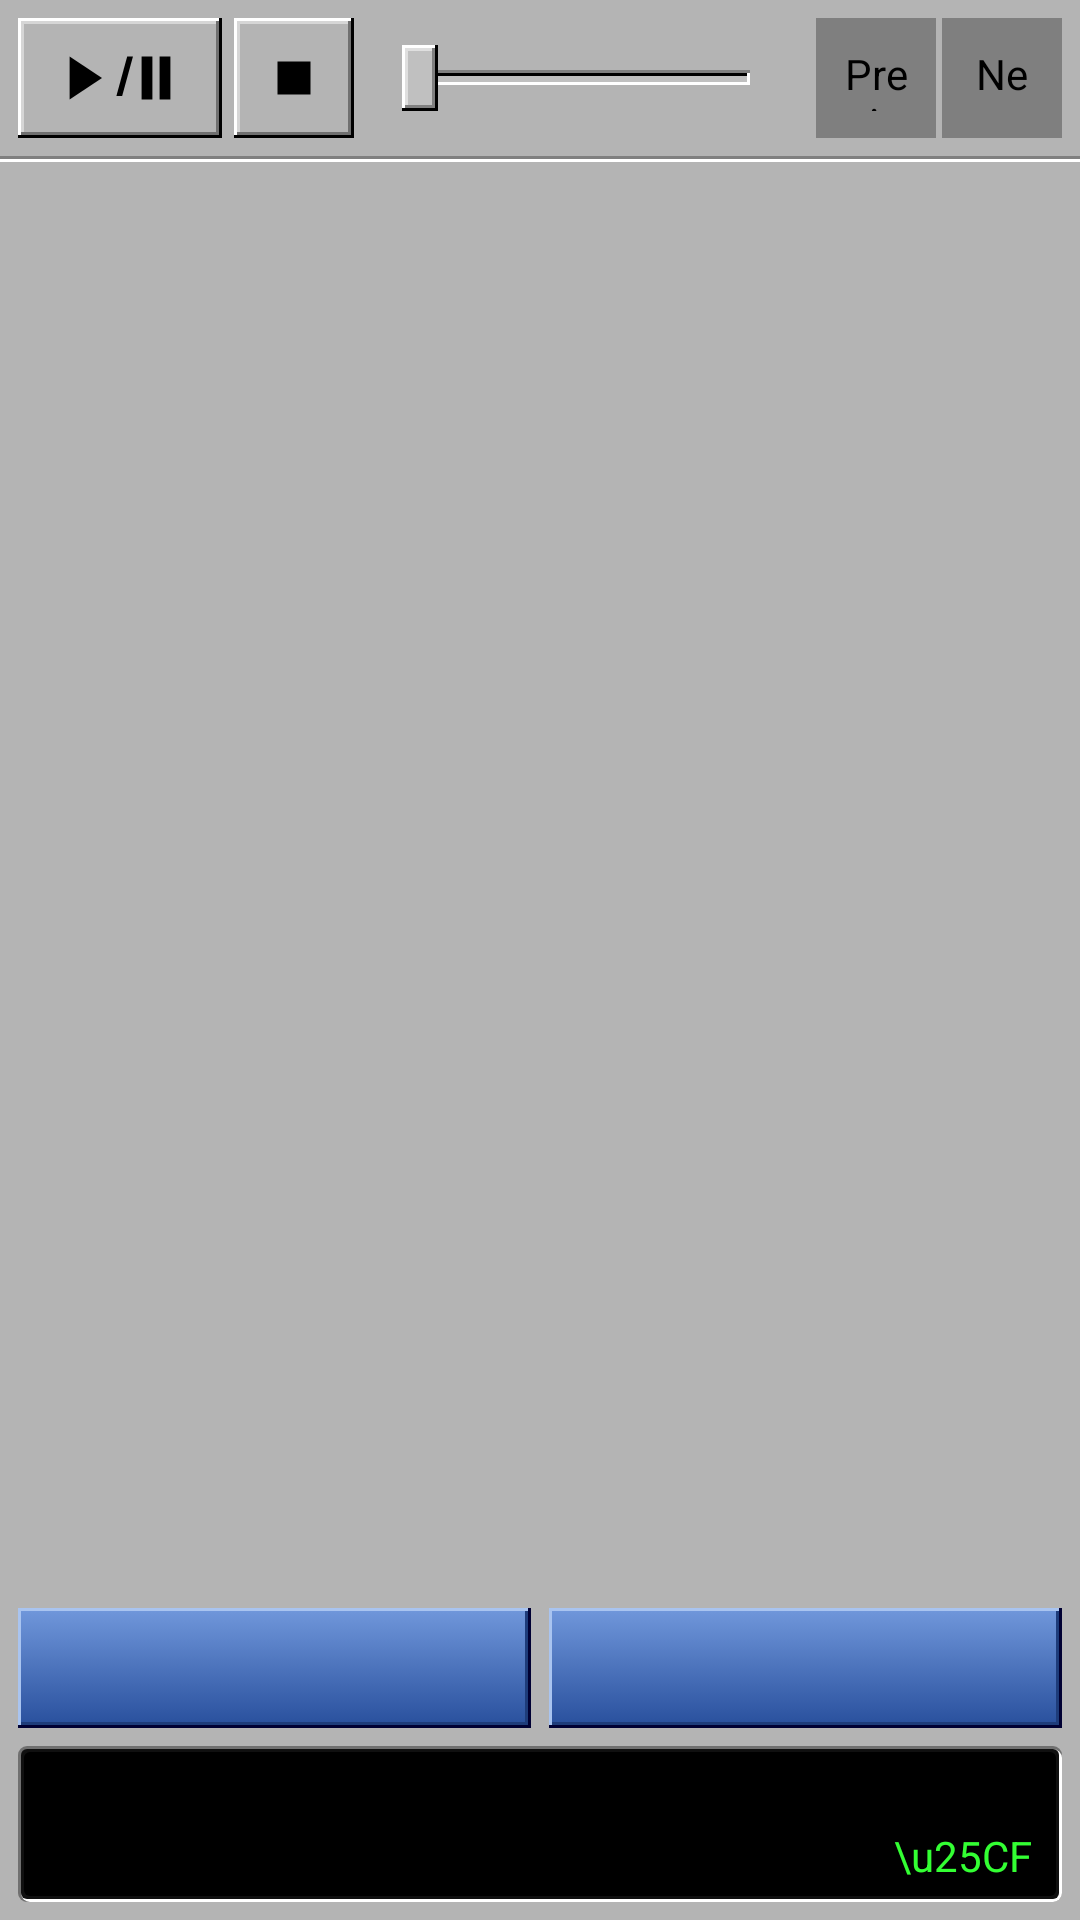

Icon click points for this 1080 × 1920 phone screenshot, format point (x, y):
Play: point (120, 78)
Stop: point (294, 78)
